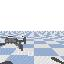drone: (0, 36, 26, 51)
